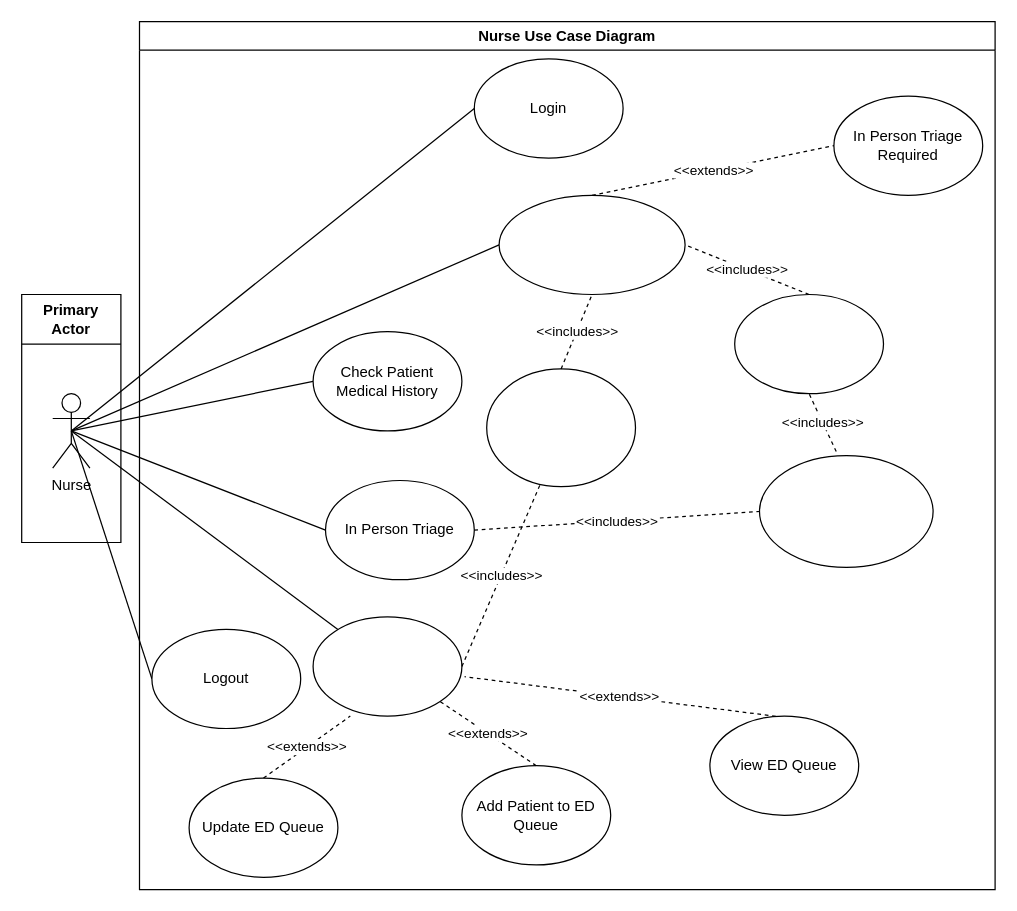
Image size: 1017x911. Some labels were removed from this diagram. Each missing label, with the centre of its shape:
Assess Patient Virtual Triage: point (591, 244)
ED Not Required: point (808, 343)
ED Queue: point (387, 666)
ED required: point (560, 427)
Recommend alternative measures: point (845, 510)
